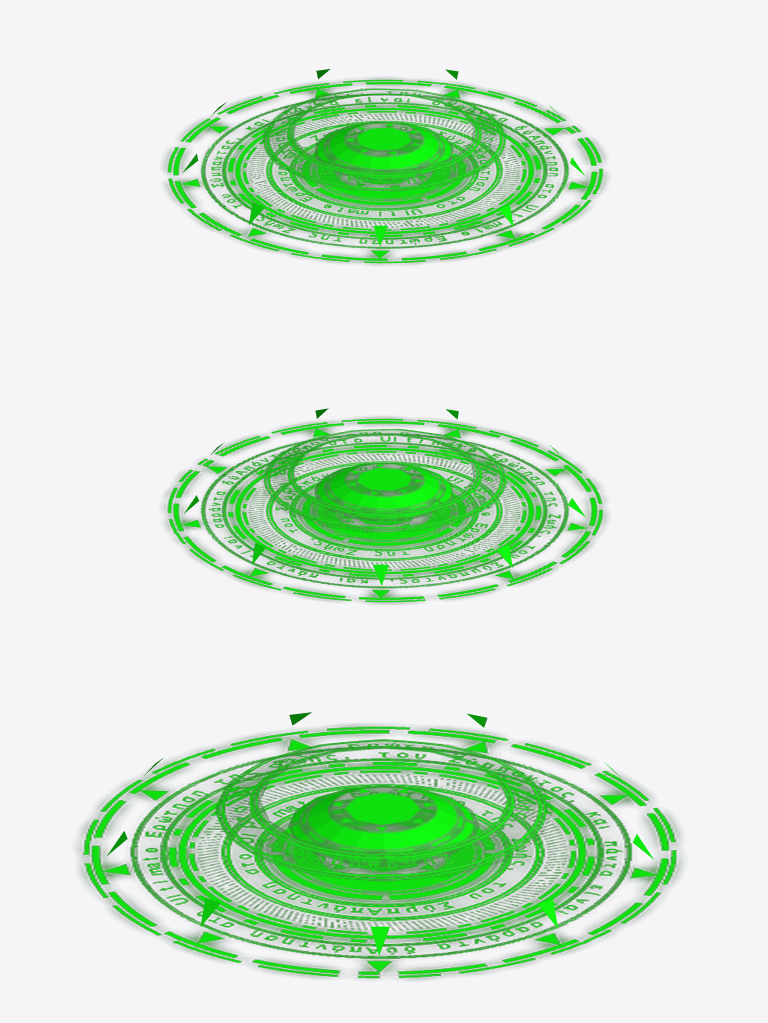
File: green-magic-ring.glb
The picture shows the model from 3 angles, top to bottom: view 1: azimuth 30°, elevation 25°; view 2: azimuth 150°, elevation 25°; view 3: azimuth 270°, elevation 25°; orthographic projection. The views are drawn at different scales.
Visible parts, largest first — view 1: Plane; view 2: Plane; view 3: Plane.
Part boxes in pixels (bbox=[...]): Plane: bbox=[163, 69, 606, 264]; Plane: bbox=[163, 408, 606, 603]; Plane: bbox=[78, 712, 681, 979].
Size of the model in its own units: 7.89 by 0.608 by 7.89.
Materials: 1 (1 with a texture image).
